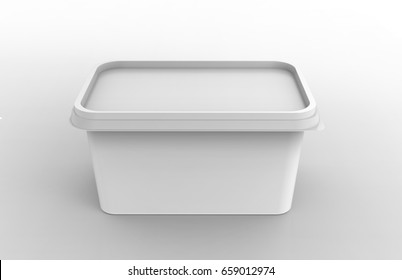PlasticBox: (65, 55, 327, 222)
